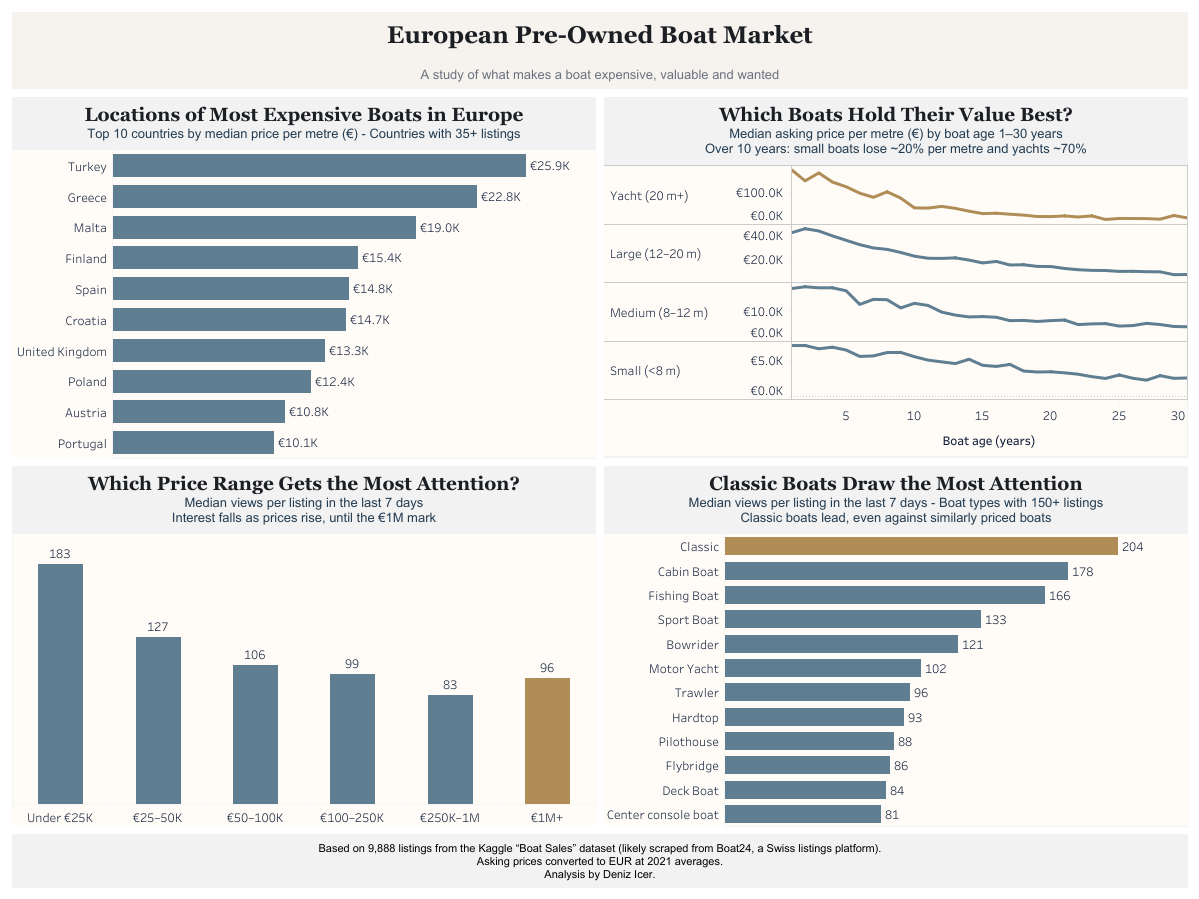

The dashboard page shown, as its layout file describes it:
{"tool":"tableau","page":{"name":"Dashboard 1","canvas":[1200,900],"ordinal":0},"visuals":[{"type":"text","box":[8,8,1184,85]},{"type":"worksheet","title":"Locations of Most Expensive Boats in Europe","mark":"Automatic","rows":["Country_Group"],"cols":["Price_per_m"],"box":[8,93,592,368.5]},{"type":"worksheet","title":"Which Boats Hold Their Value Best?","mark":"Automatic","rows":["Calculation_0910725236785152","Price_per_m"],"cols":["Age"],"box":[600,93,592,368.5]},{"type":"worksheet","title":"Which Price Range Gets the Most Attention?","mark":"Automatic","rows":["Views_7d"],"cols":["Calculation_0910725261766657"],"box":[8,461.5,592,368.5]},{"type":"worksheet","title":"Classic Boats Draw the Most Attention","mark":"Automatic","rows":["Boat_Type_Main"],"cols":["Views_7d"],"box":[600,461.5,592,368.5]},{"type":"text","box":[8,830,1184,62]}]}

Visuals, with their boxes in screenshot pixels (x1, y1, x2, y2), scaled from the page's 1200x900 canvas onto the 1199x899 screenshot:
text: 8 8 1191 93
"Locations of Most Expensive Boats in Europe" worksheet: 8 93 600 461
"Which Boats Hold Their Value Best?" worksheet: 600 93 1191 461
"Which Price Range Gets the Most Attention?" worksheet: 8 461 600 829
"Classic Boats Draw the Most Attention" worksheet: 600 461 1191 829
text: 8 829 1191 891
